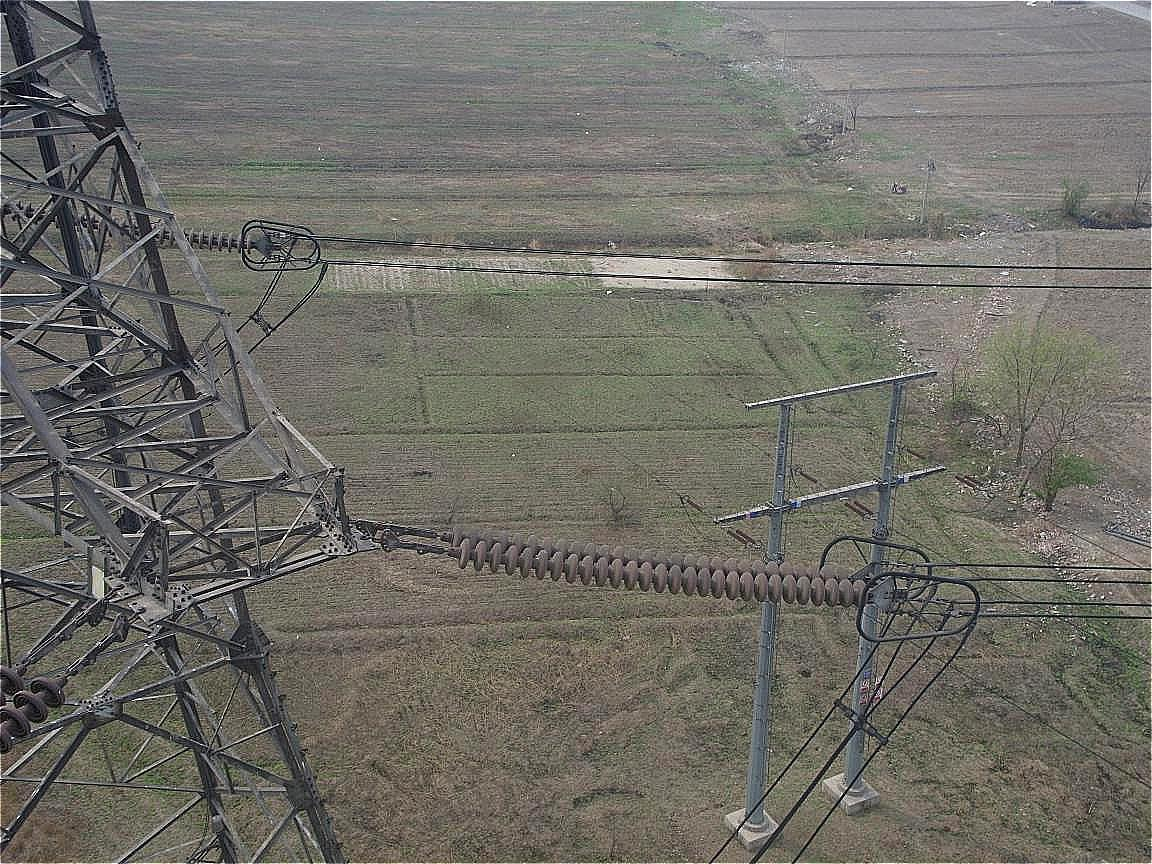insultor1: (445, 518, 891, 618)
